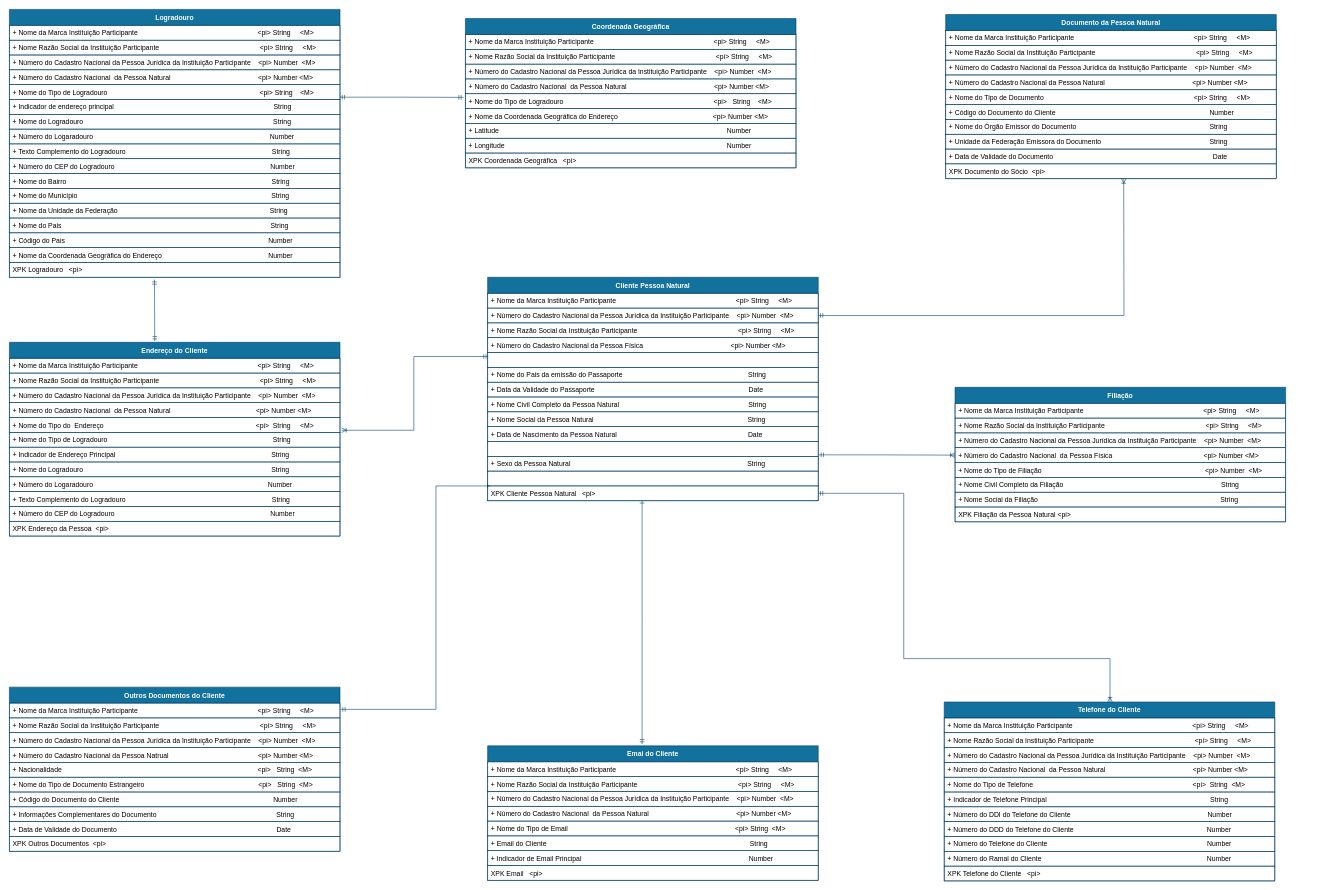
The diagram is 1324 pixels wide and 890 high, and some of its shapes have lost their labels. The shapes that lost their labels are listed below. From the top down, each one's centre as x and y in pixels, then its label:
At pixel 652 359: "+ Número do Passaporte Number".
At pixel 652 448: "+ Estado Civil da Pessoa Natural String".
At pixel 652 478: "+ Nacionalidade da Pessoa Natural String".
